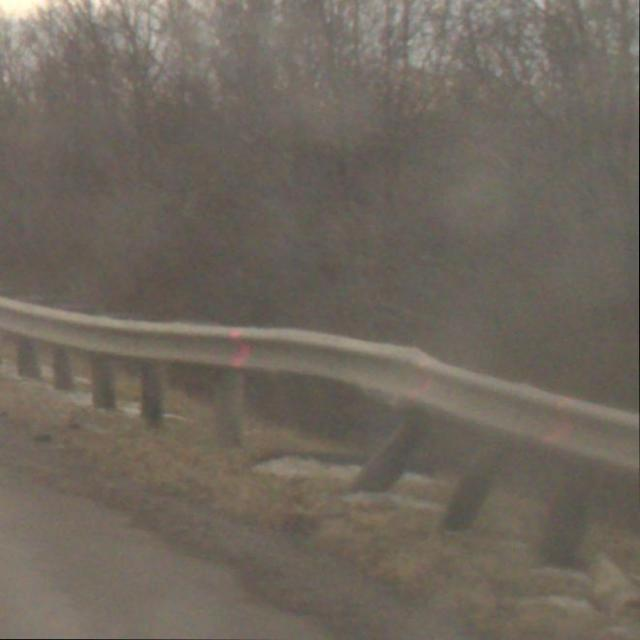Guard rail: (0, 292, 640, 595)
